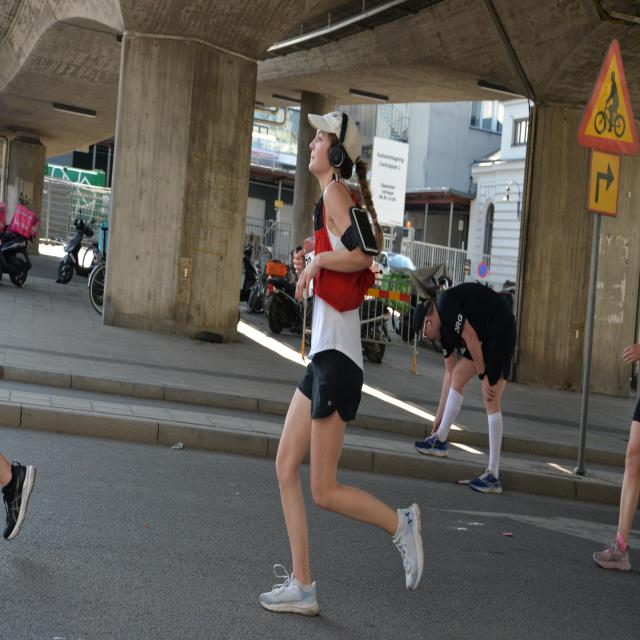runner-detect: (252, 94, 432, 628)
